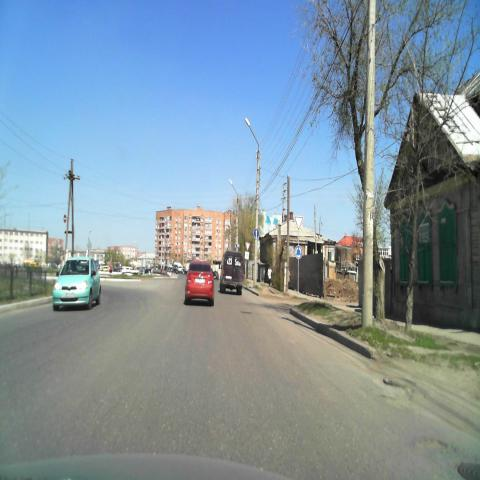4_3: (294, 245, 302, 259)
